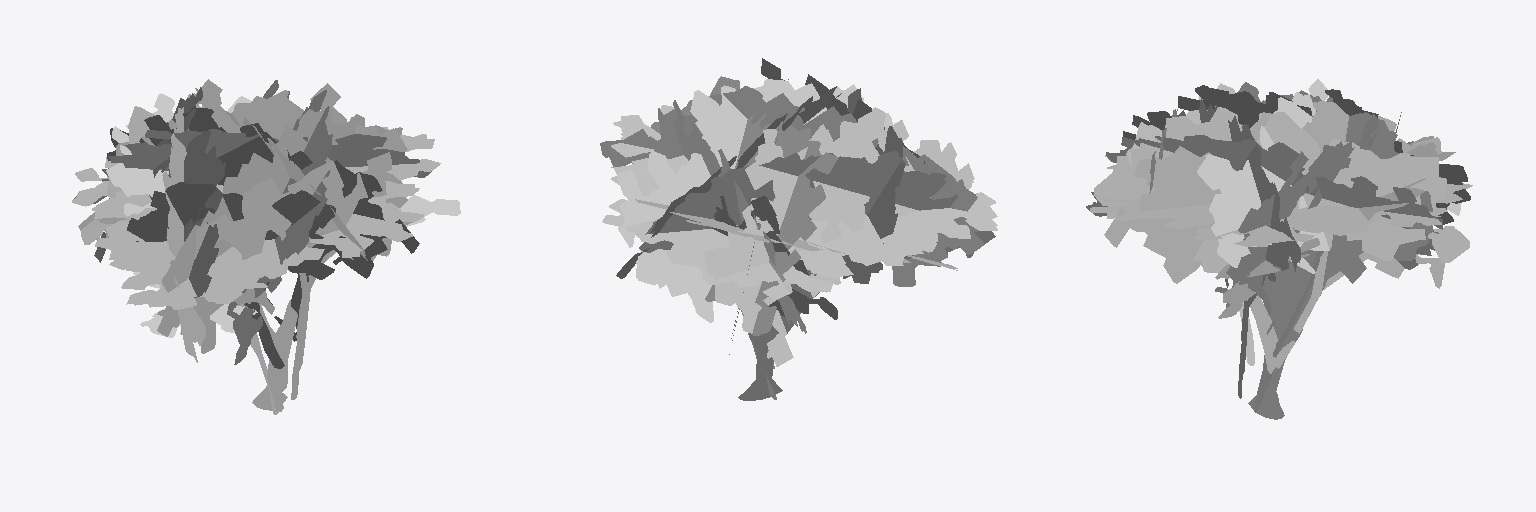
The model's file is billboard13.obj.
3 views of the same model, side by side, from view 1: azimuth 30°, elevation 25°; view 2: azimuth 150°, elevation 25°; view 3: azimuth 270°, elevation 25° (orthographic).
Visible parts, largest first — view 1: BillboardCloudProxy_0_LOD1; view 2: BillboardCloudProxy_0_LOD1; view 3: BillboardCloudProxy_0_LOD1.
Boxes of the visible parts, x1=… form: BillboardCloudProxy_0_LOD1: x1=72, y1=79, x2=460, y2=414; BillboardCloudProxy_0_LOD1: x1=600, y1=58, x2=997, y2=400; BillboardCloudProxy_0_LOD1: x1=1086, y1=79, x2=1472, y2=419.
Size of the model in its own units: 364 by 297 by 340.